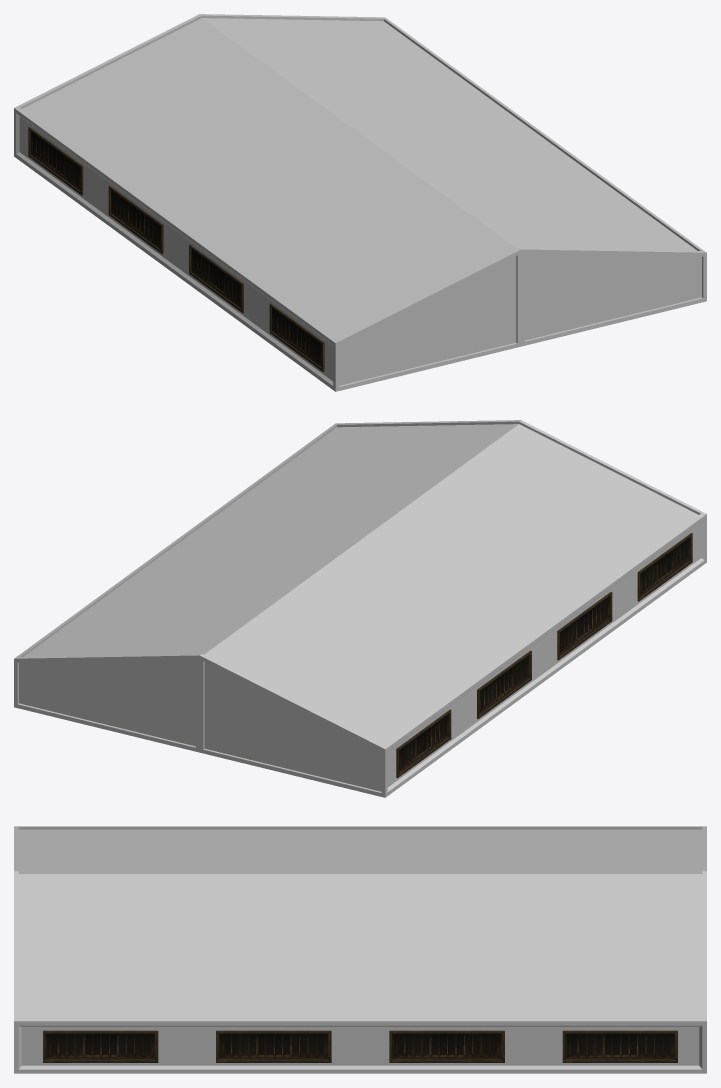
File: roof_mh_4_a_3.fbx
The picture shows the model from 3 angles, top to bottom: view 1: azimuth 30°, elevation 25°; view 2: azimuth 150°, elevation 25°; view 3: azimuth 270°, elevation 25°; orthographic projection. The views are drawn at different scales.
Parts seen in each view (by area): view 1: roof_mh_4_a_3; view 2: roof_mh_4_a_3; view 3: roof_mh_4_a_3.
Part boxes in pixels (x1,y1,x2,y2): roof_mh_4_a_3: (14, 14, 706, 391); roof_mh_4_a_3: (14, 420, 706, 797); roof_mh_4_a_3: (14, 826, 706, 1073).
Bounding box in the file's own units: 8 × 12 × 2.
